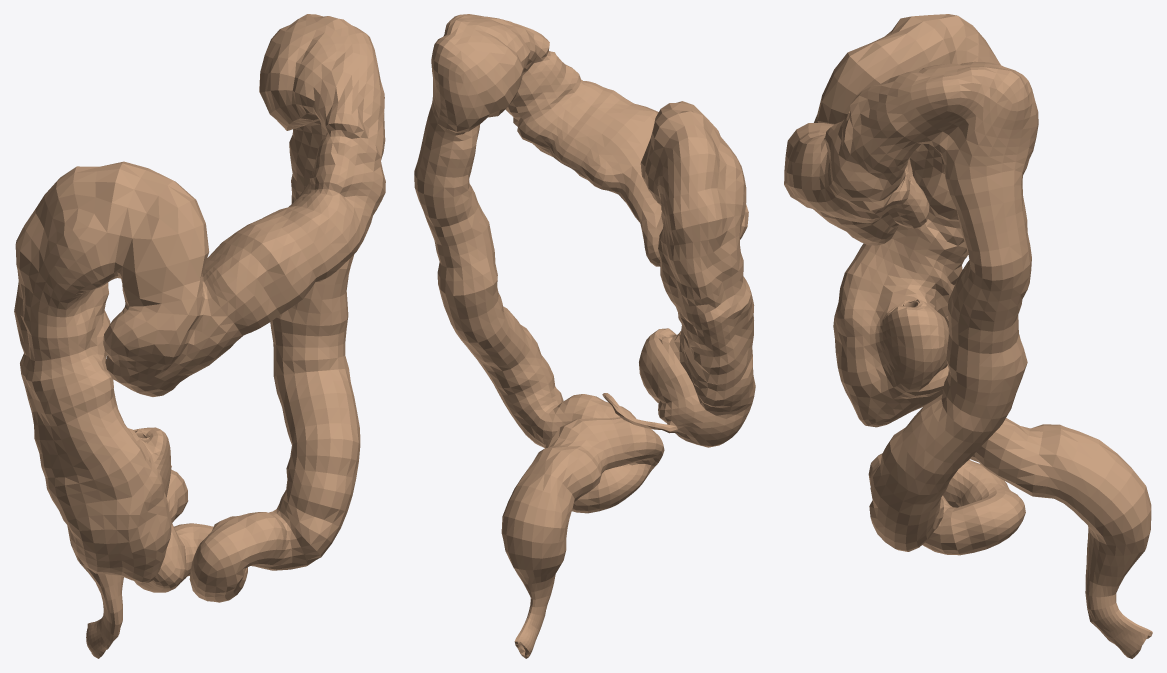
The model's file is large_intestine.glb.
The picture shows the model from 3 angles, left to right: view 1: azimuth 30°, elevation 25°; view 2: azimuth 150°, elevation 25°; view 3: azimuth 270°, elevation 25°; orthographic projection. The views are drawn at different scales.
Visible parts, largest first — view 1: large_intestine; view 2: large_intestine; view 3: large_intestine.
Part boxes in pixels (left/top/right/bottom): large_intestine: left=14, top=14, right=385, bottom=658; large_intestine: left=414, top=14, right=755, bottom=658; large_intestine: left=784, top=14, right=1152, bottom=658.
Bounding box in the file's own units: 0.2591 × 0.4503 × 0.2248.
